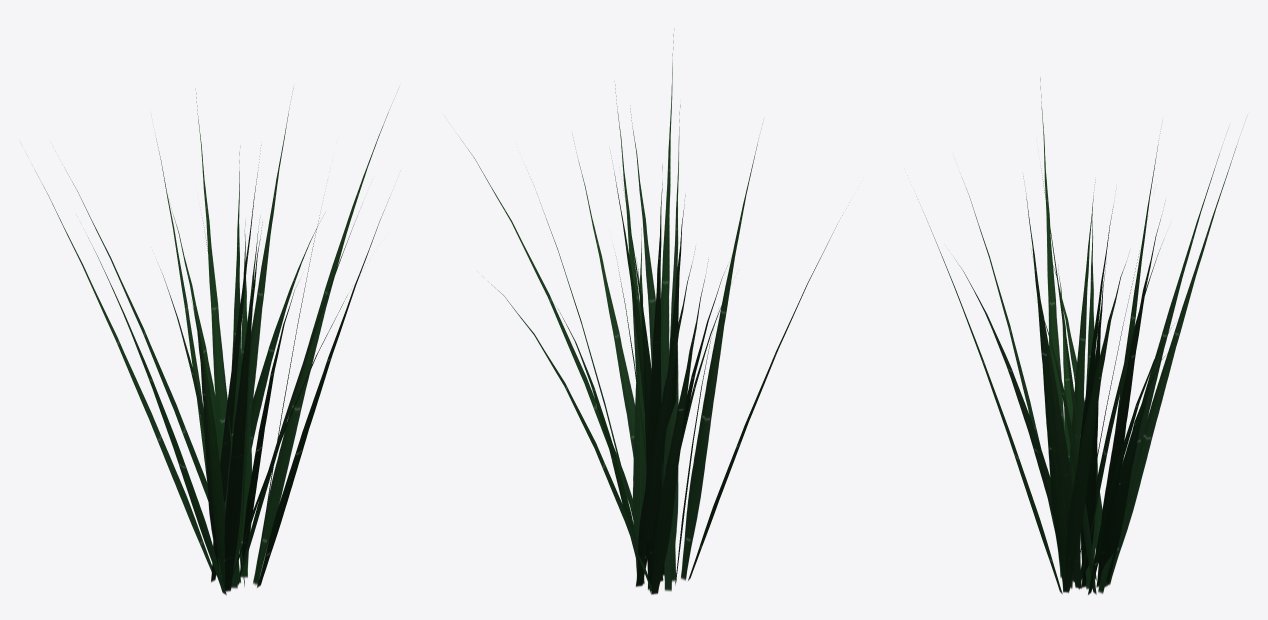
The model's file is Wetland_Cattail_2.glb.
3 views of the same model, side by side, from view 1: azimuth 30°, elevation 25°; view 2: azimuth 150°, elevation 25°; view 3: azimuth 270°, elevation 25° (orthographic). The views are drawn at different scales.
Parts seen in each view (by area): view 1: Wetland_Cattail_2; view 2: Wetland_Cattail_2; view 3: Wetland_Cattail_2.
Part boxes in pixels (box(x1,y1,x2,y2)): Wetland_Cattail_2: box(34, 89, 398, 595); Wetland_Cattail_2: box(460, 29, 842, 594); Wetland_Cattail_2: box(916, 78, 1238, 594).
Size of the model in its own units: 1.04 by 1.52 by 0.8541.
1 material, 1 textured.
